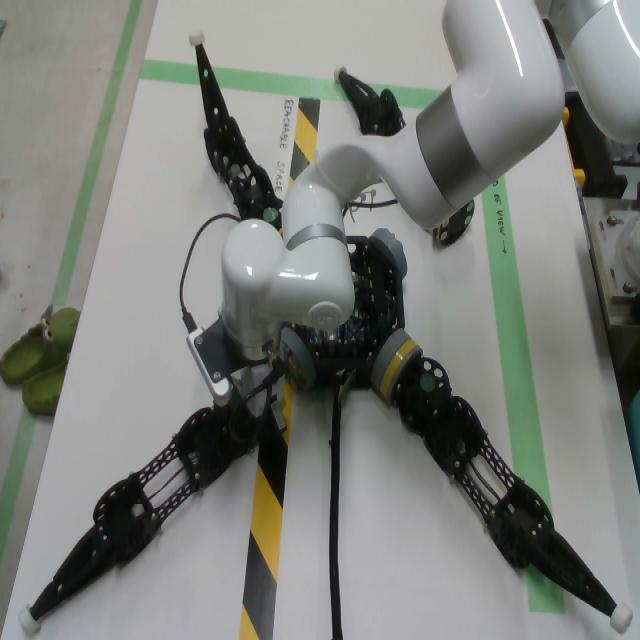body: (282, 236, 405, 391)
body_connector: (369, 329, 410, 395), (279, 328, 316, 392), (368, 228, 407, 280)
gripper: (230, 359, 287, 443)
leg: (379, 337, 635, 635), (16, 389, 256, 637), (189, 28, 283, 231), (334, 63, 407, 137)
leg_connector: (379, 340, 423, 404), (431, 200, 475, 245), (280, 396, 286, 411)
leg_marker: (229, 389, 241, 411), (420, 376, 435, 391), (264, 208, 278, 221)
